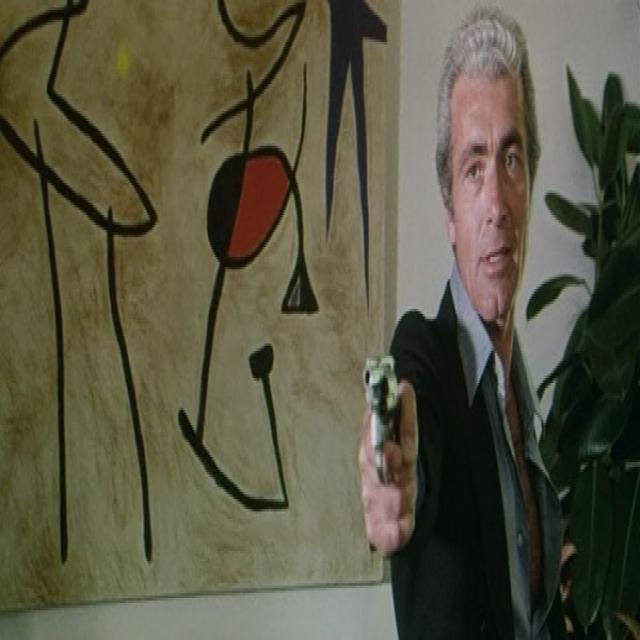weapons: (352, 338, 422, 551)
